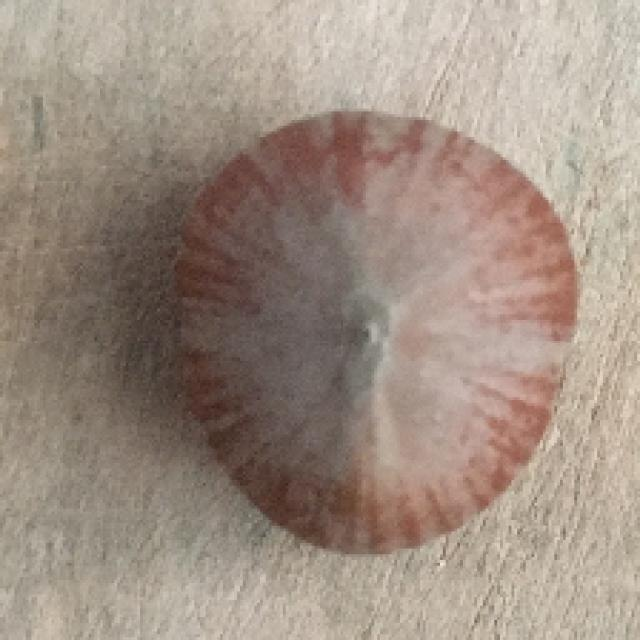QualityHazelnut: (175, 111, 581, 557)
